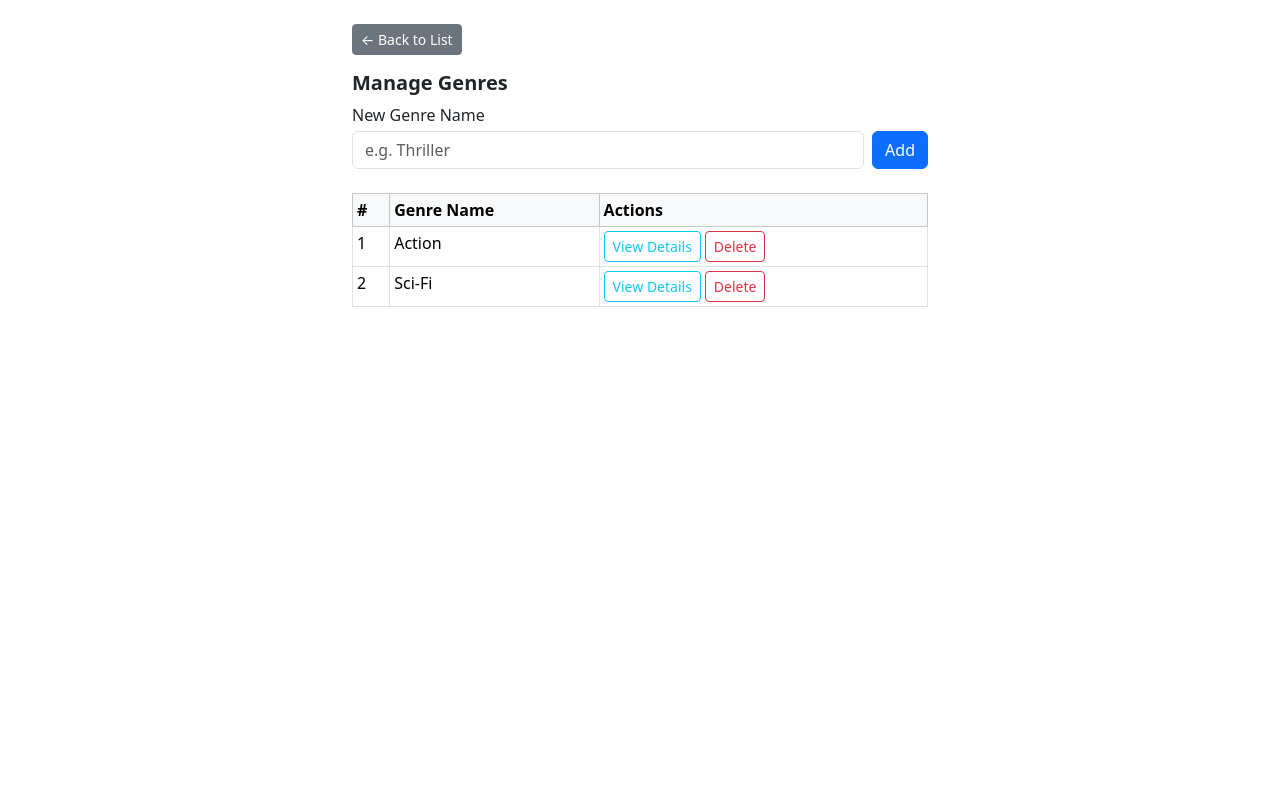
Test: ManageGenres — TODO-10 › clicking Delete on a genre shows ModalConfirm (provided)
Check: the text "Action" is shown, box [390,226,599,266]
Click the 1st button "Delete" at (735, 246), box [705,231,765,262]
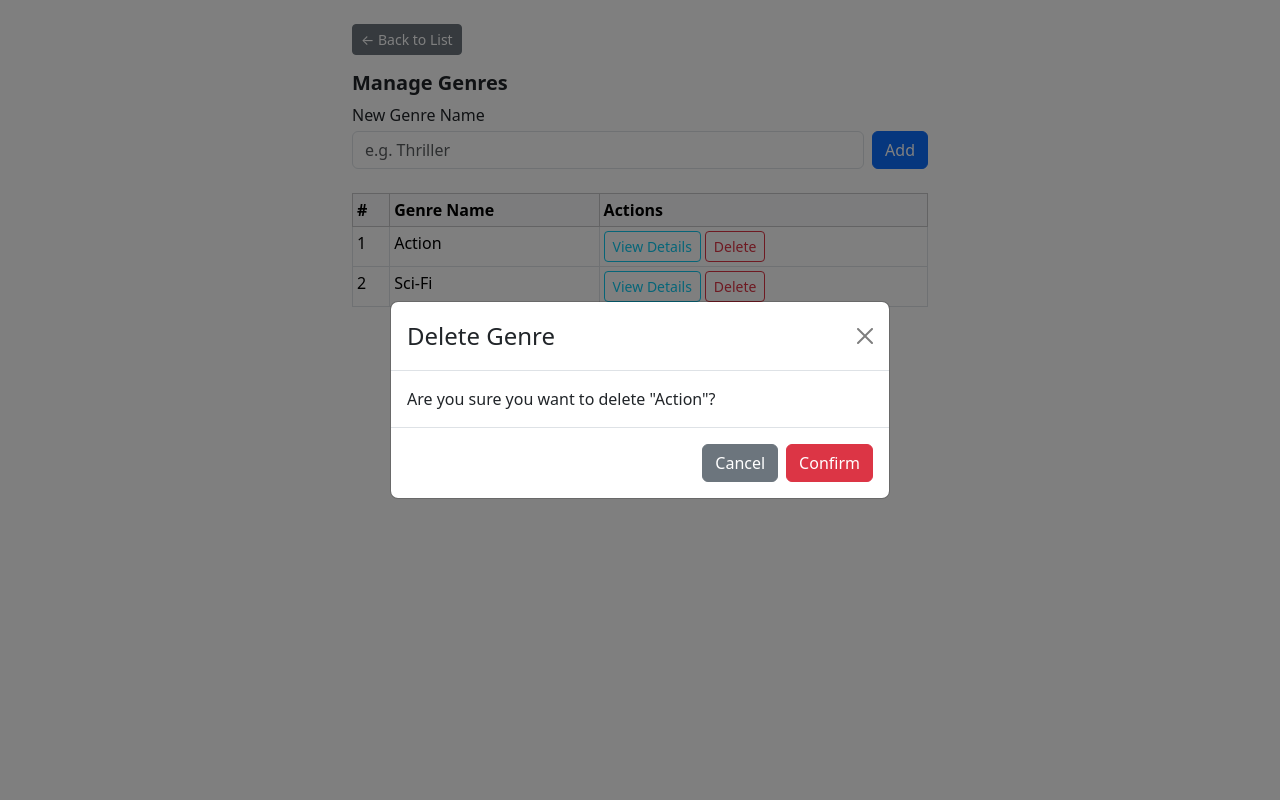
Check: the text "Are you sure you want to delete \"Action\"?" is shown, box [407,388,716,410]
